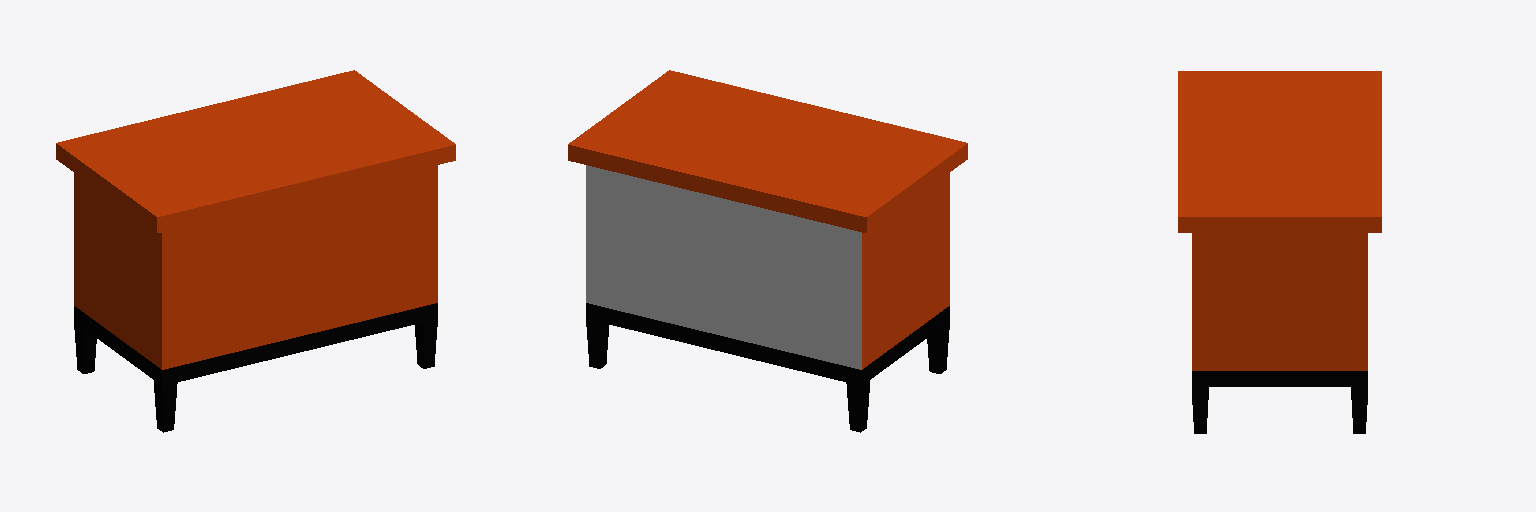
The model's file is wardrobe_1.obj.
The picture shows the model from 3 angles: view 1: azimuth 30°, elevation 25°; view 2: azimuth 150°, elevation 25°; view 3: azimuth 270°, elevation 25°; orthographic projection.
Visible parts, largest first — view 1: wardrobe_1; view 2: wardrobe_1; view 3: wardrobe_1.
Boxes of the visible parts, x1=… form: wardrobe_1: x1=56, y1=70, x2=455, y2=432; wardrobe_1: x1=568, y1=70, x2=967, y2=432; wardrobe_1: x1=1178, y1=71, x2=1381, y2=433.
Bounding box in the file's own units: 3.9 × 2.8 × 2.3.